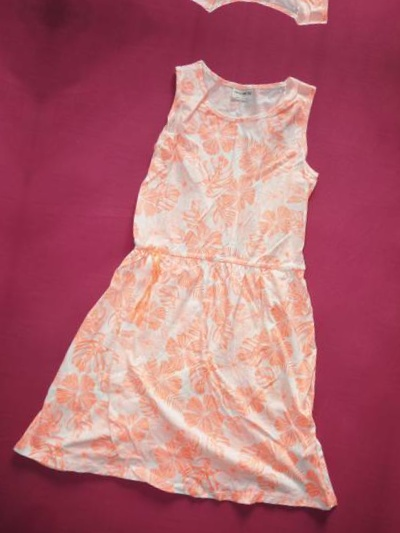Dress: (9, 36, 400, 527), (87, 0, 400, 50), (0, 0, 22, 463)
